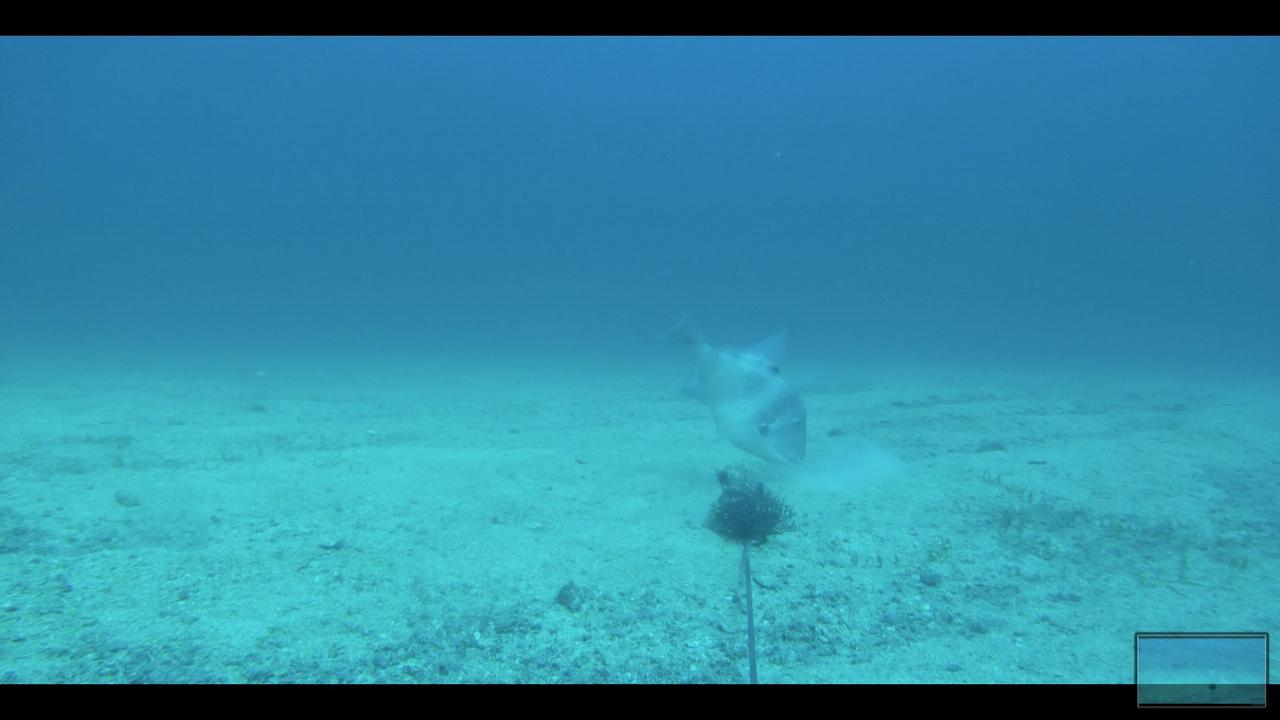balistes: (650, 301, 816, 470)
